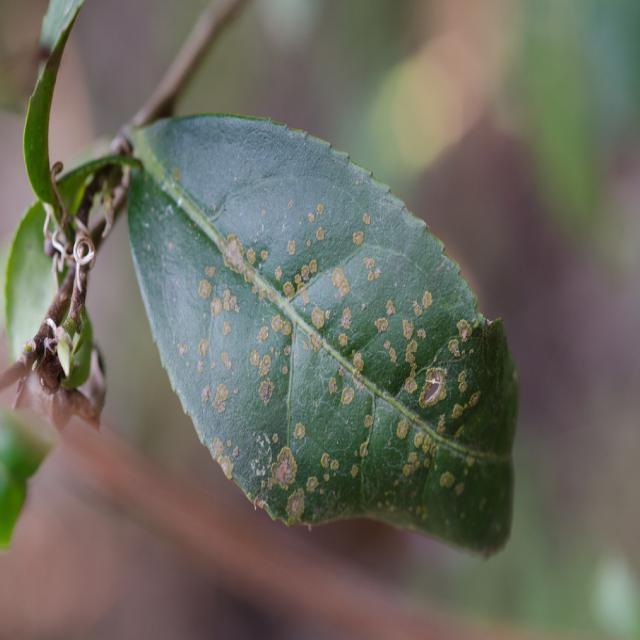Tea algae leaf spot: (193, 230, 523, 553)
